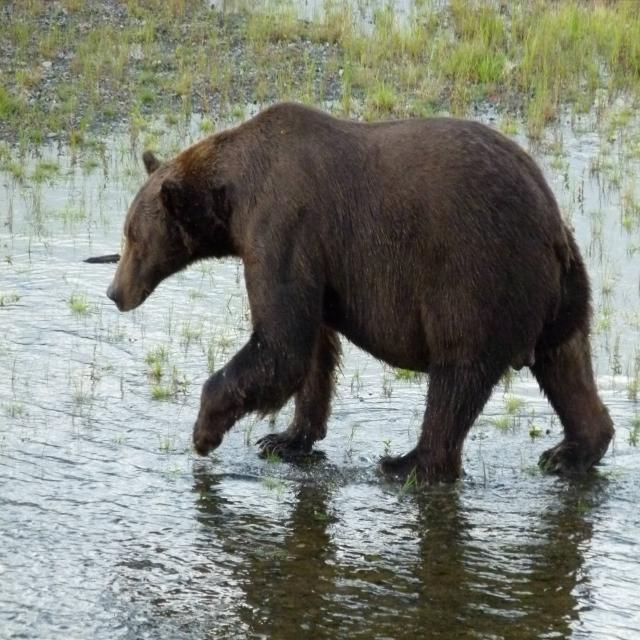bear face: (106, 104, 612, 470)
